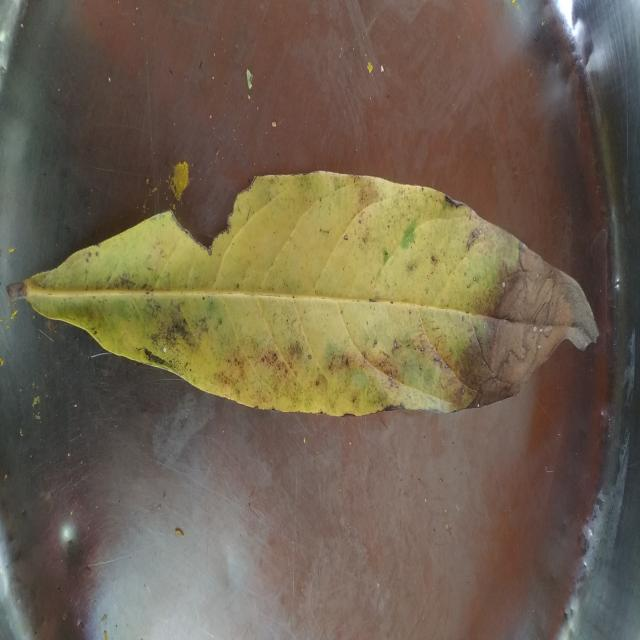seethaashoka: (8, 171, 599, 416)
